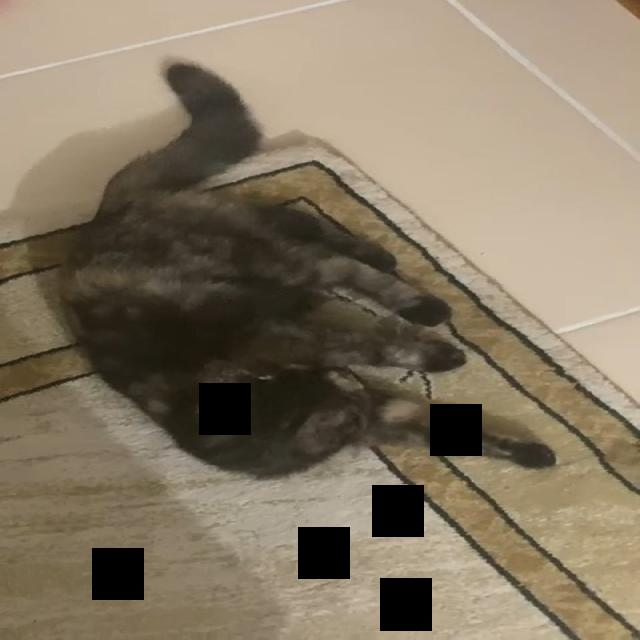authorized: (56, 58, 556, 480)
